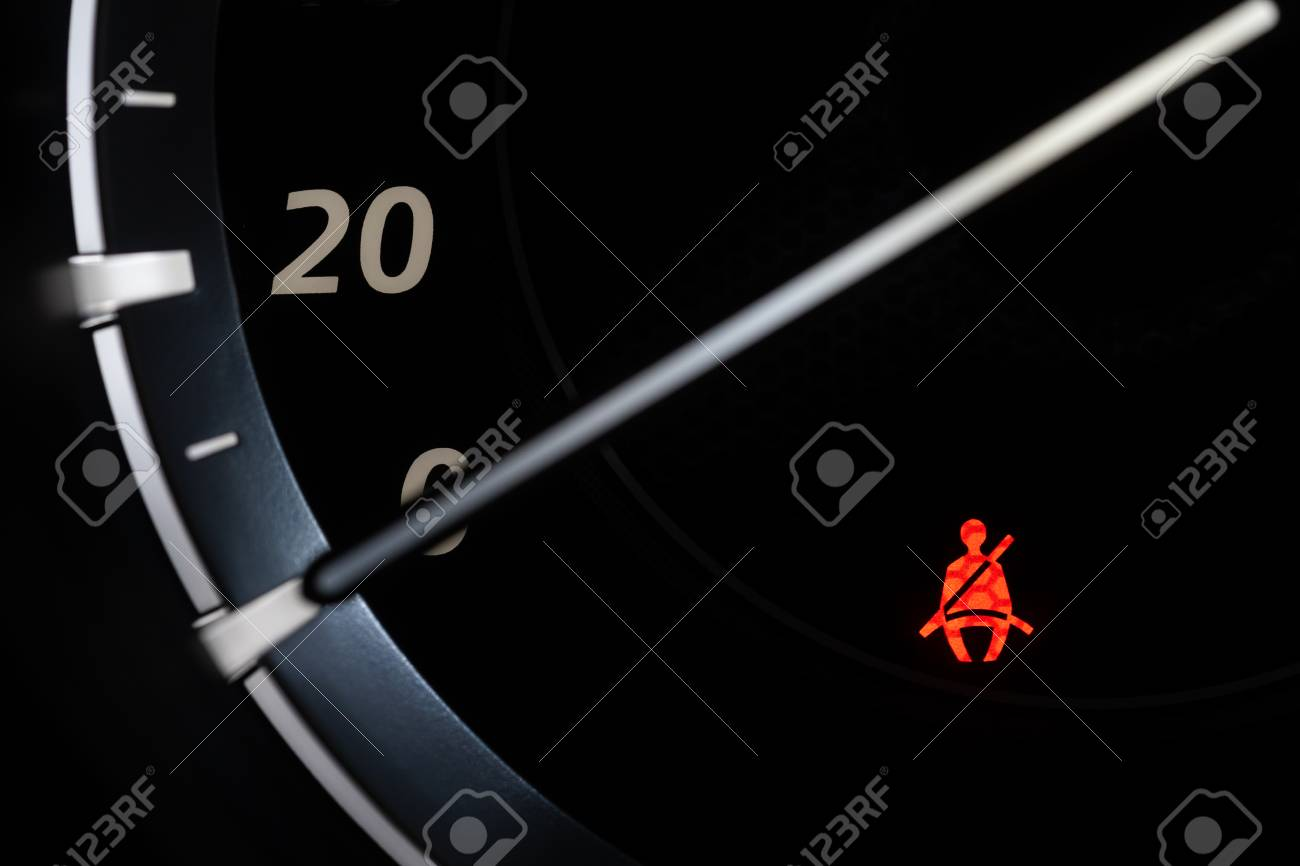ABS: (923, 515, 1037, 676)
